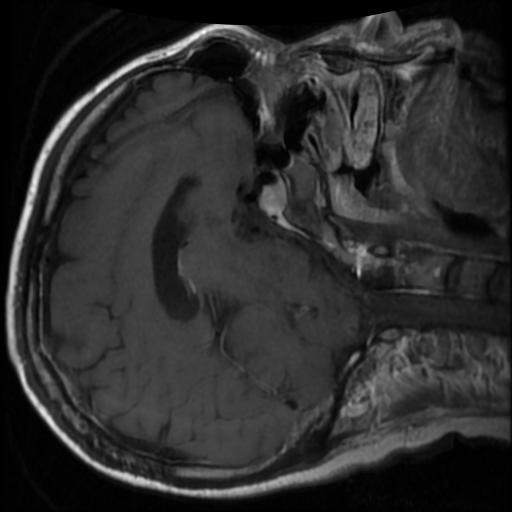pituitary tumour: (259, 182, 284, 215)
